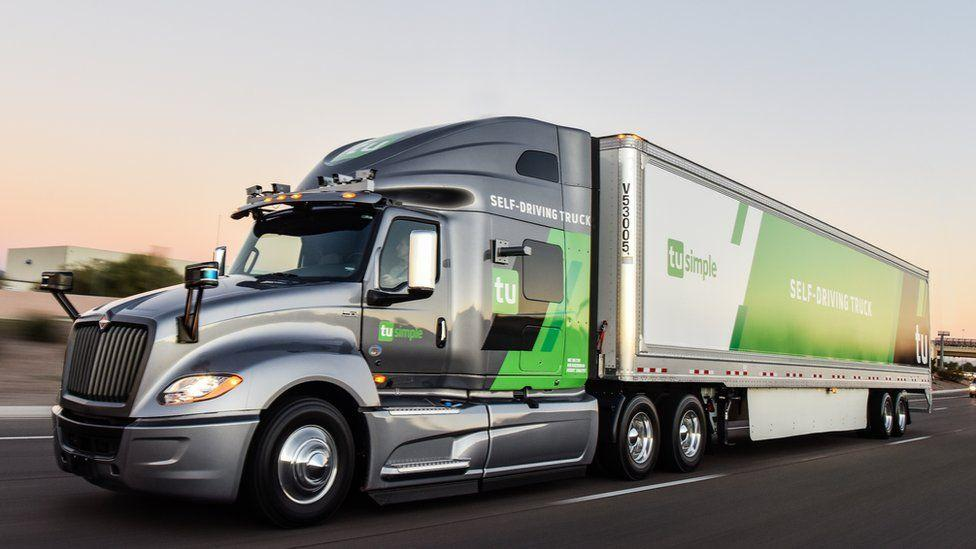truck: (41, 117, 933, 525)
